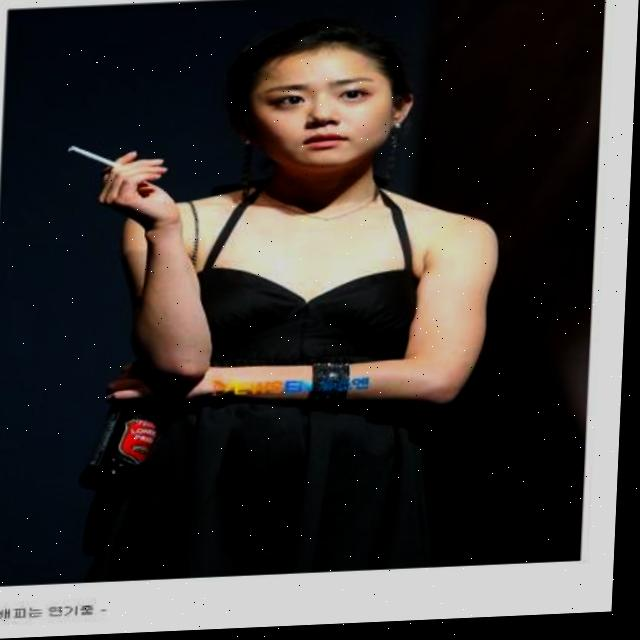cigarette: (65, 140, 119, 175)
